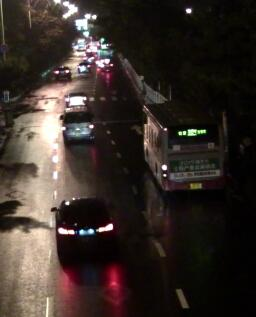bus: (137, 101, 227, 194)
car: (50, 196, 117, 250), (57, 107, 97, 143), (64, 90, 87, 108), (53, 63, 71, 78), (83, 50, 97, 63), (100, 58, 113, 71), (77, 61, 89, 73)
